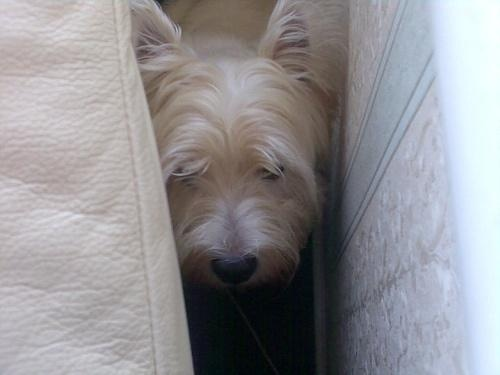dog: (132, 1, 341, 287)
